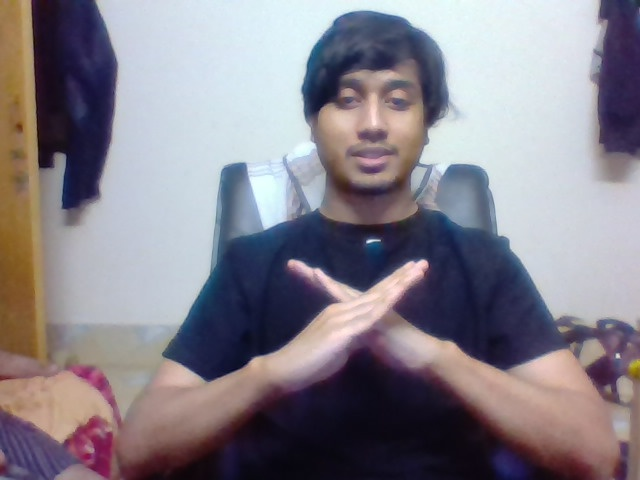X: (267, 250, 466, 385)
